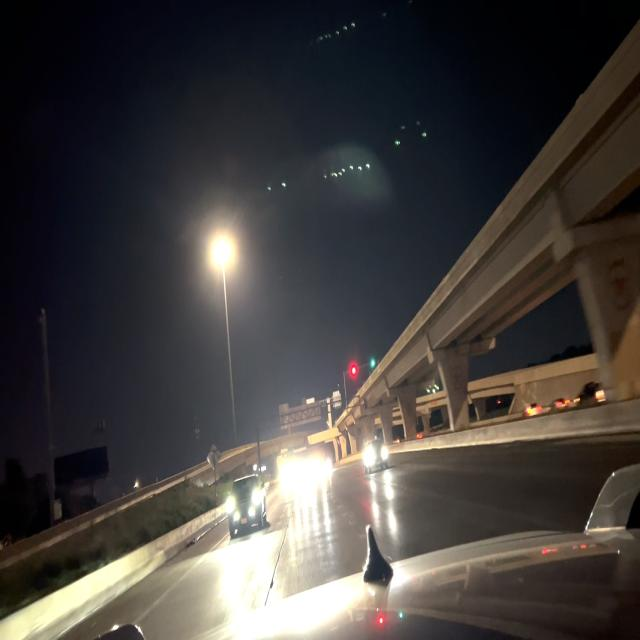back-of-sign: (278, 400, 322, 429), (207, 441, 221, 470)
